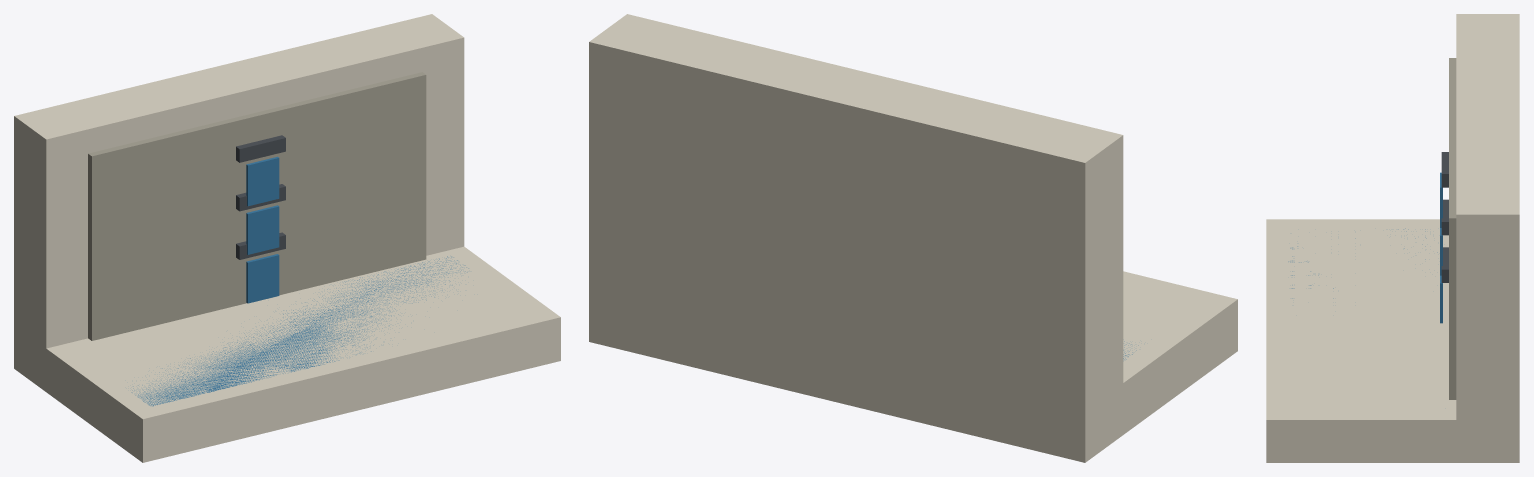
Rendered from prop.fountain-wall.glb.
3 views of the same model, side by side, from view 1: azimuth 30°, elevation 25°; view 2: azimuth 150°, elevation 25°; view 3: azimuth 270°, elevation 25° (orthographic). The views are drawn at different scales.
Parts seen in each view (by area): view 1: prop.fountain-wall; view 2: prop.fountain-wall; view 3: prop.fountain-wall.
Boxes of the visible parts, x1,y1,x2,y2 form: prop.fountain-wall: (14, 14, 560, 462); prop.fountain-wall: (589, 14, 1237, 462); prop.fountain-wall: (1266, 14, 1519, 462).
Size of the model in its own units: 4.5 by 2.6 by 2.4.
